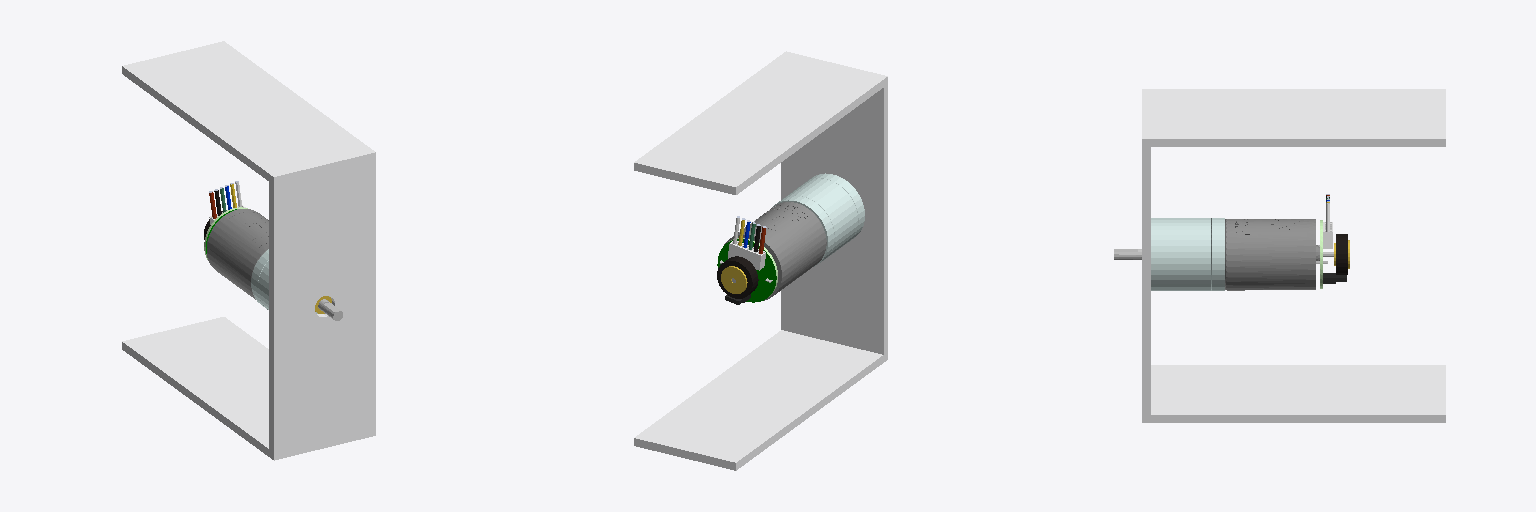
File: Manipulator_Sterowniki_Robotow_I_czlon.obj
3 views of the same model, side by side, from view 1: azimuth 30°, elevation 25°; view 2: azimuth 150°, elevation 25°; view 3: azimuth 270°, elevation 25° (orthographic).
Visible parts, largest first — view 1: Solid1, Solid1:1; view 2: Solid1, Solid1:1; view 3: Solid1, Solid1:1.
Part boxes in pixels (left/top/right/bottom): Solid1: left=122, top=41, right=375, bottom=460; Solid1:1: left=204, top=181, right=342, bottom=320; Solid1: left=634, top=51, right=887, bottom=470; Solid1:1: left=717, top=173, right=864, bottom=304; Solid1: left=1142, top=89, right=1445, bottom=422; Solid1:1: left=1114, top=194, right=1349, bottom=290.
Bounding box in the file's own units: 40 × 106 × 112.